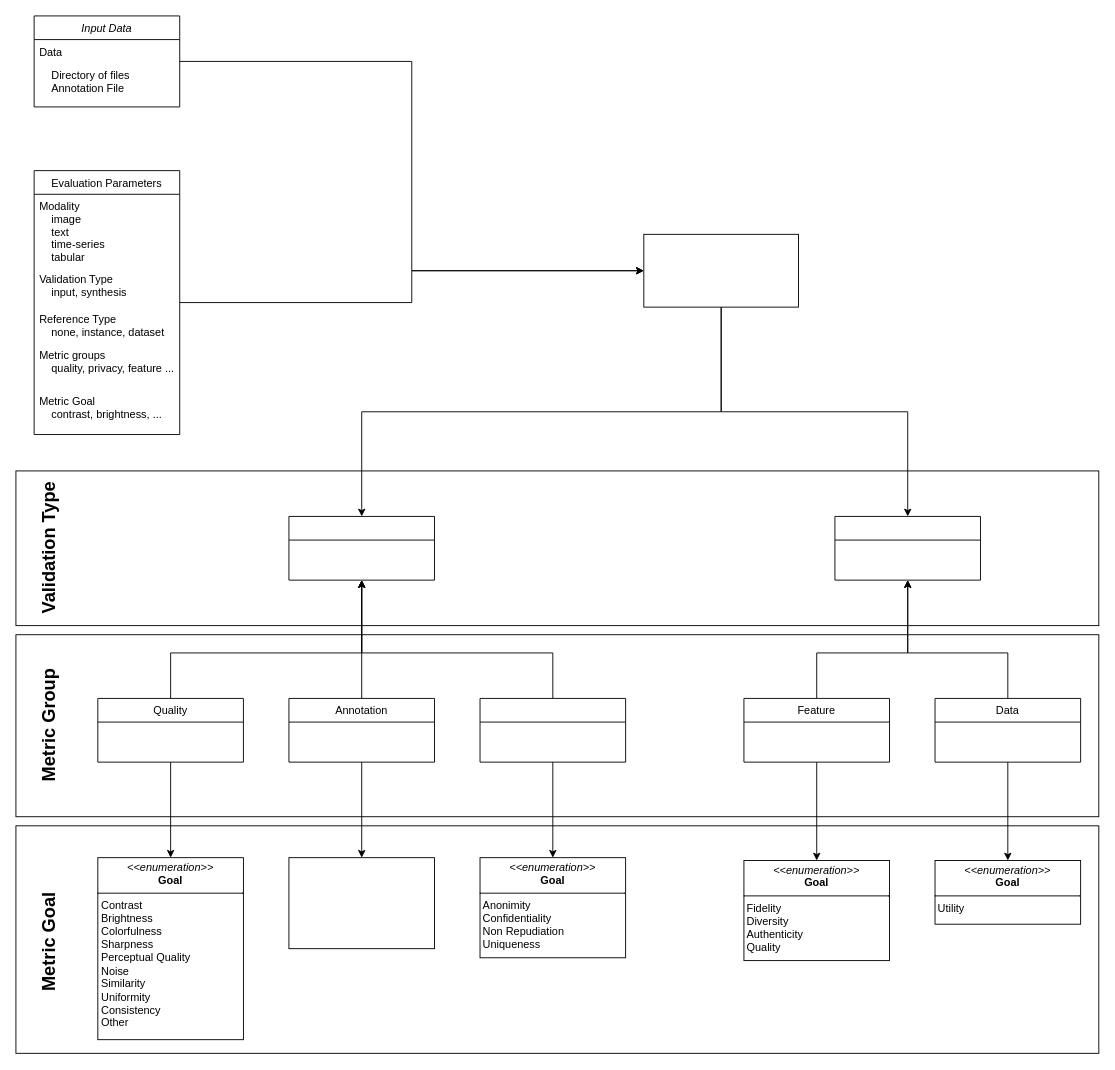
Image size: 1115x1070. Some labels were removed from this diagram. The box of each missing label's shape, as (x1, y1, x2, y2) in pixels:
<<enumeration>> Goal Completeness Correctness Uniqueness: (288, 857, 435, 949)
Data Auditing Module: (643, 233, 799, 307)
Input Validation: (288, 516, 435, 580)
Privacy: (479, 698, 626, 762)
Synthesis Validation: (834, 516, 981, 580)
